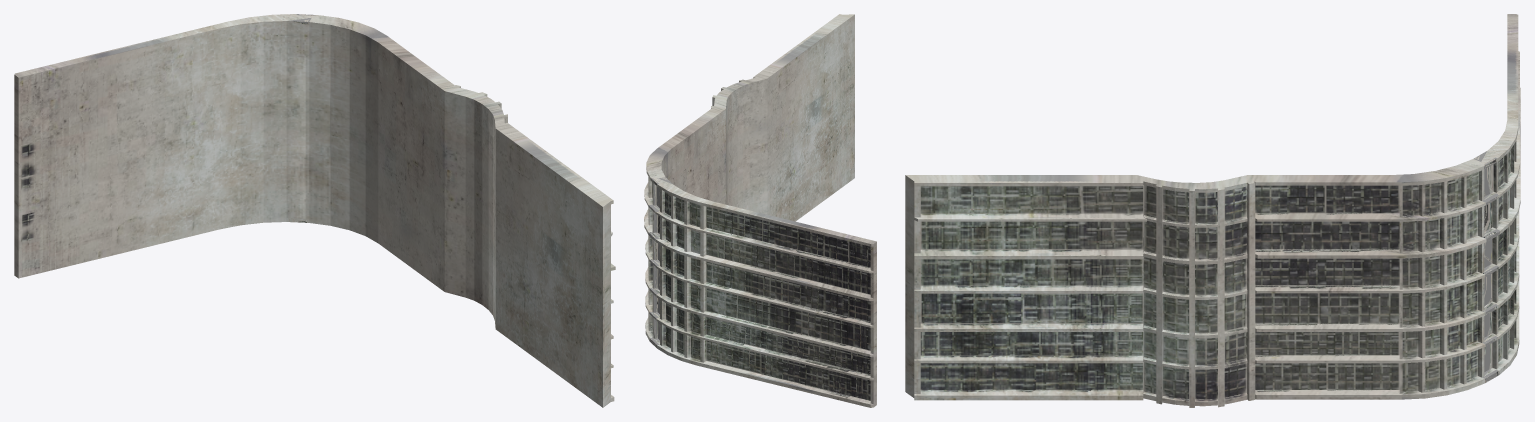
The model's file is building05-broken.fbx.
The picture shows the model from 3 angles, left to right: view 1: azimuth 30°, elevation 25°; view 2: azimuth 150°, elevation 25°; view 3: azimuth 270°, elevation 25°; orthographic projection. The views are drawn at different scales.
Parts seen in each view (by area): view 1: polySurface2, polySurface1; view 2: polySurface1, polySurface2; view 3: polySurface2, polySurface1.
Part boxes in pixels (x1=…): polySurface2: x1=305, y1=15, x2=615, y2=407; polySurface1: x1=14, y1=14, x2=313, y2=278; polySurface1: x1=649, y1=178, x2=876, y2=407; polySurface2: x1=644, y1=14, x2=854, y2=342; polySurface2: x1=905, y1=157, x2=1488, y2=407; polySurface1: x1=1475, y1=14, x2=1520, y2=381.
Size of the model in its own units: 28.35 by 16.2 by 41.63.
Materials: 1 (1 with a texture image).
